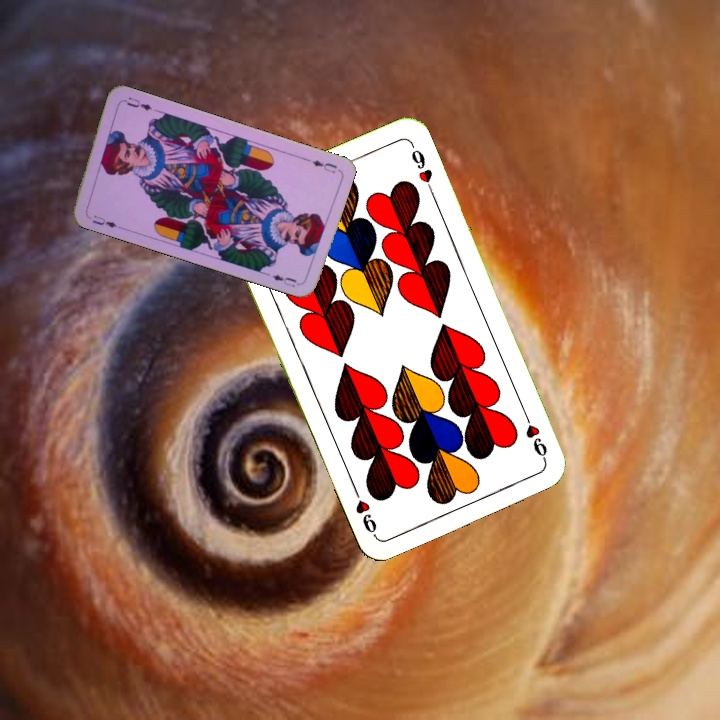EU: (300, 154, 339, 176), (88, 211, 123, 231)
H9: (519, 407, 550, 464)
